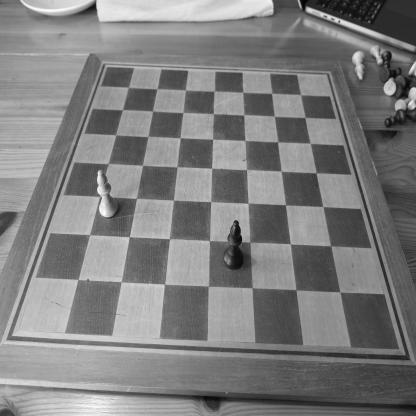black-bishop: (222, 220, 244, 270)
black-pawn: (384, 109, 406, 128)
white-bishop: (97, 170, 119, 218), (351, 50, 366, 82)
white-pawn: (369, 44, 384, 66)
